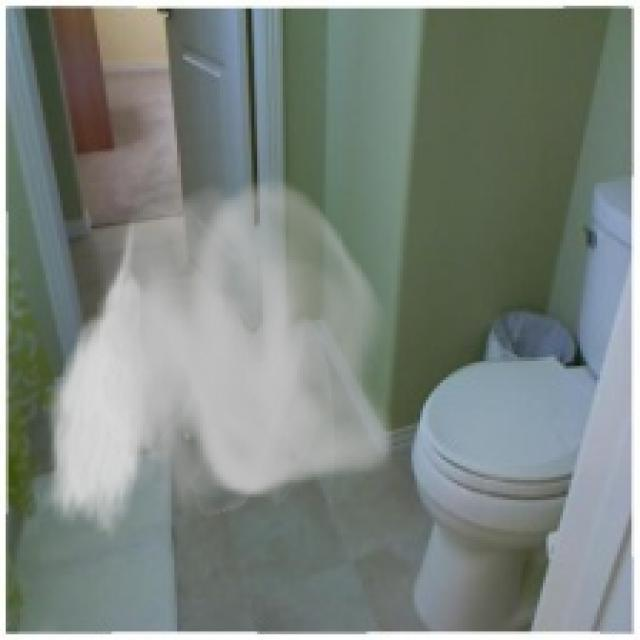Smoke: (42, 168, 394, 540)
